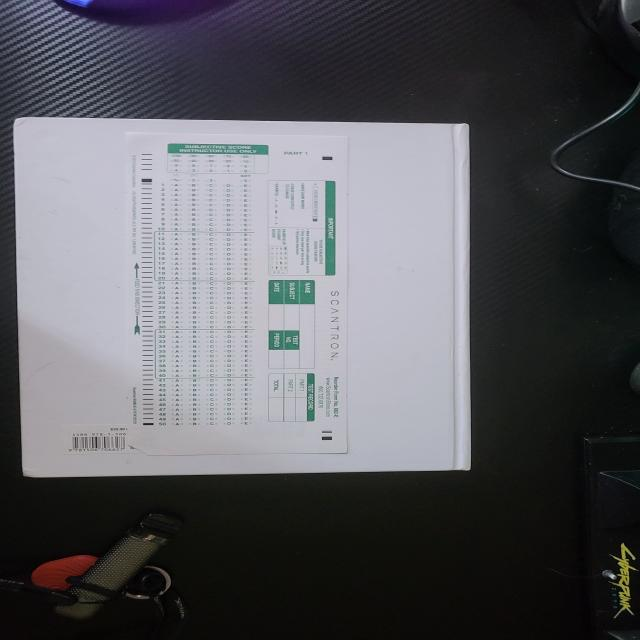scantron: (124, 132, 349, 455)
